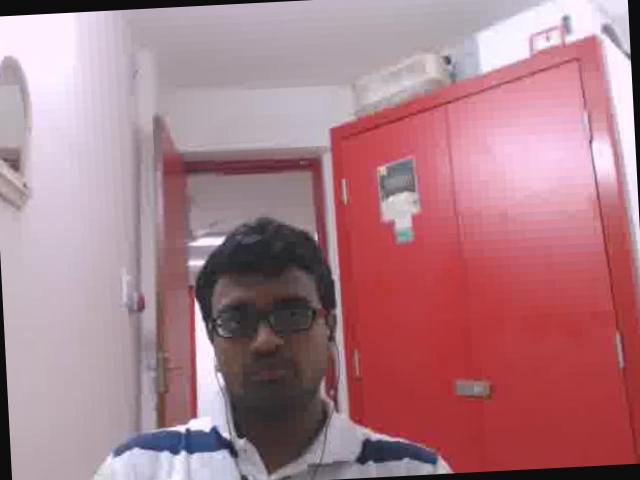bosan: (211, 260, 334, 414)
